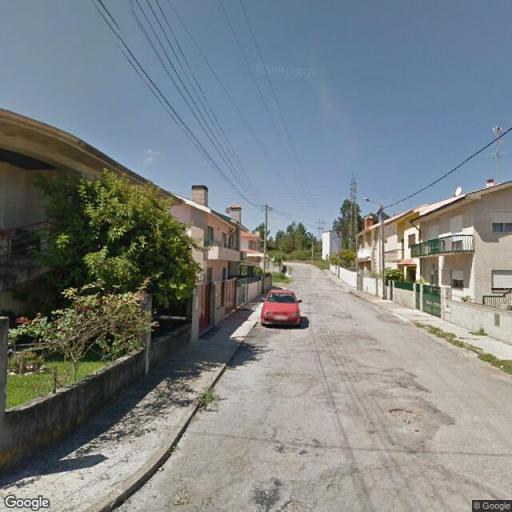mono_7: (260, 201, 274, 274)
ss_3: (348, 175, 360, 250)
